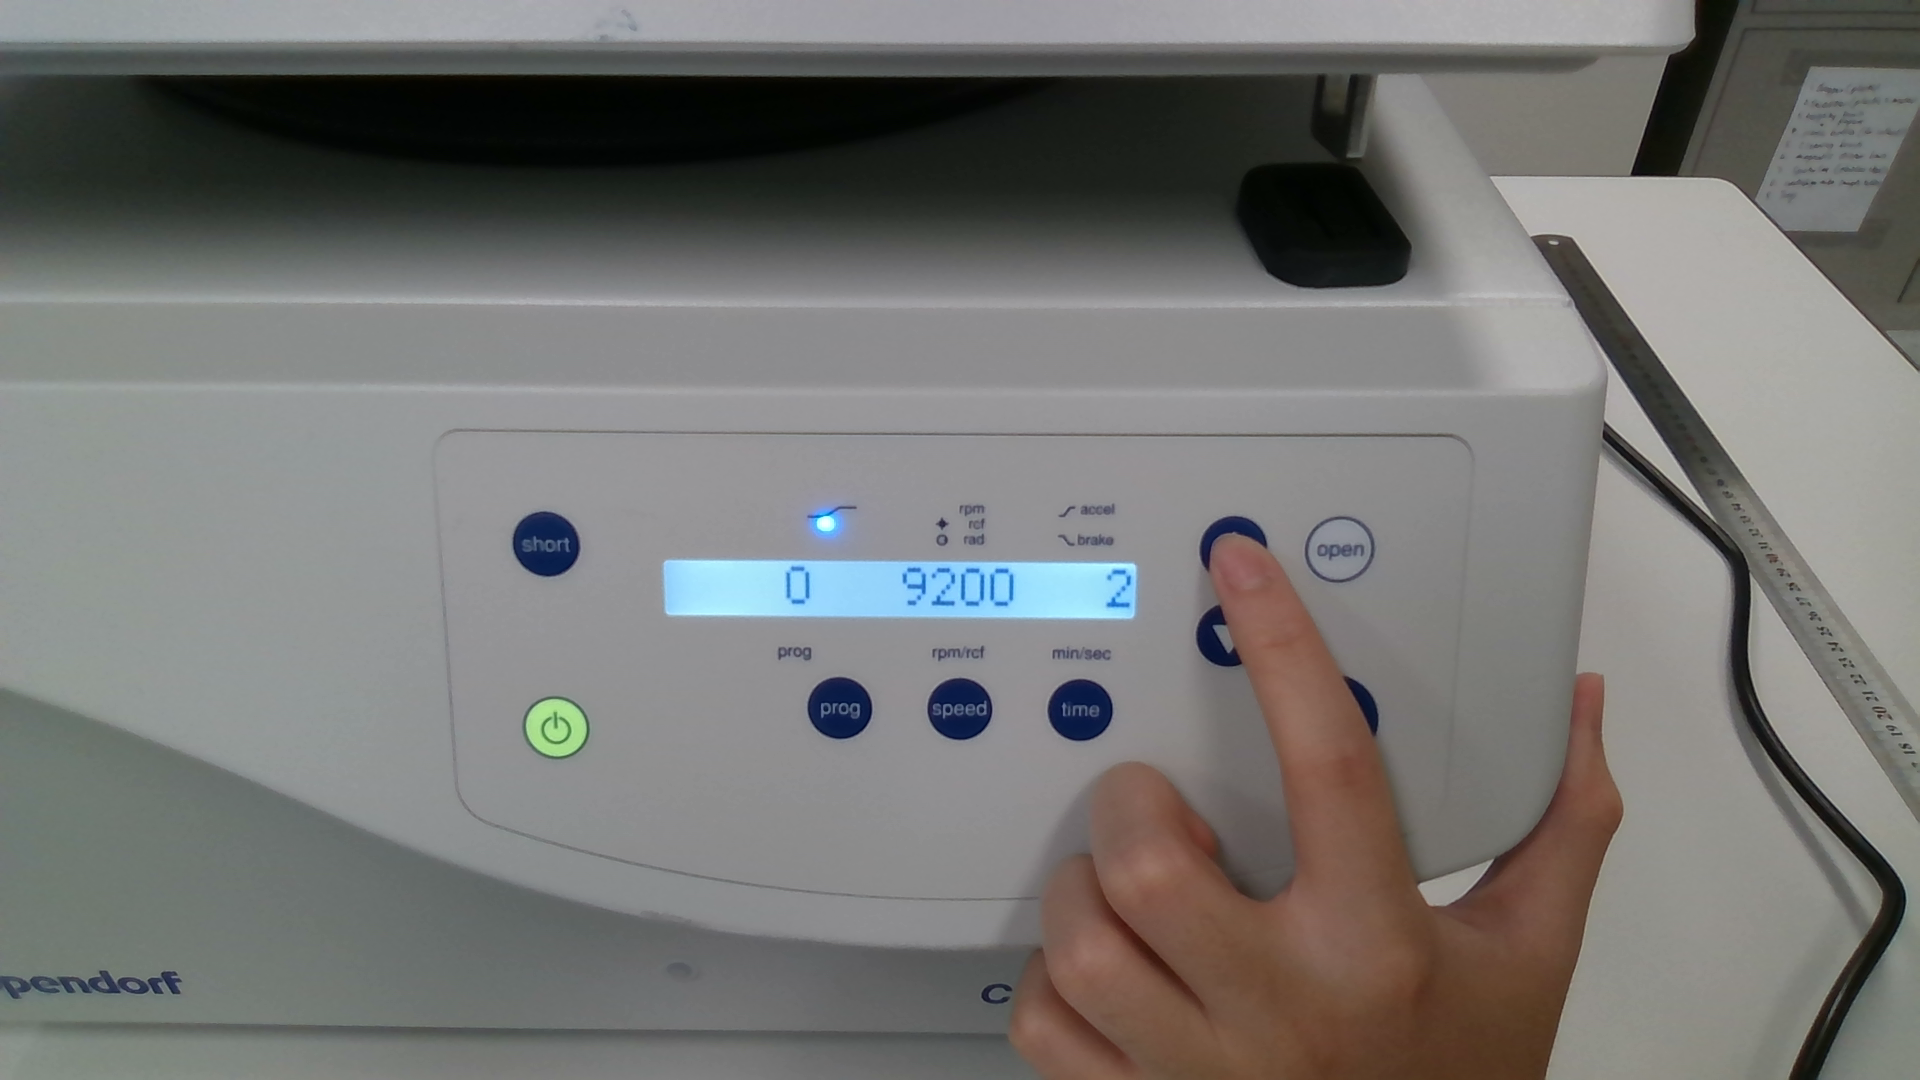0: (786, 566, 811, 605), (960, 568, 985, 607), (989, 568, 1014, 607)
2: (931, 567, 956, 607), (1106, 568, 1131, 608)
9: (902, 567, 927, 607)
open_off: (1304, 516, 1375, 584)
power_on: (522, 696, 589, 760)
